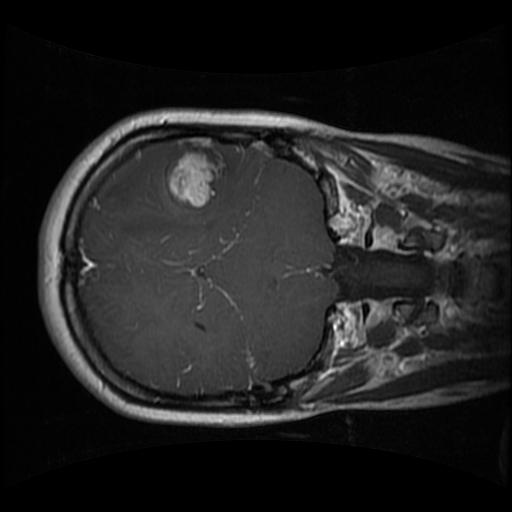glioma: (161, 136, 227, 213)
